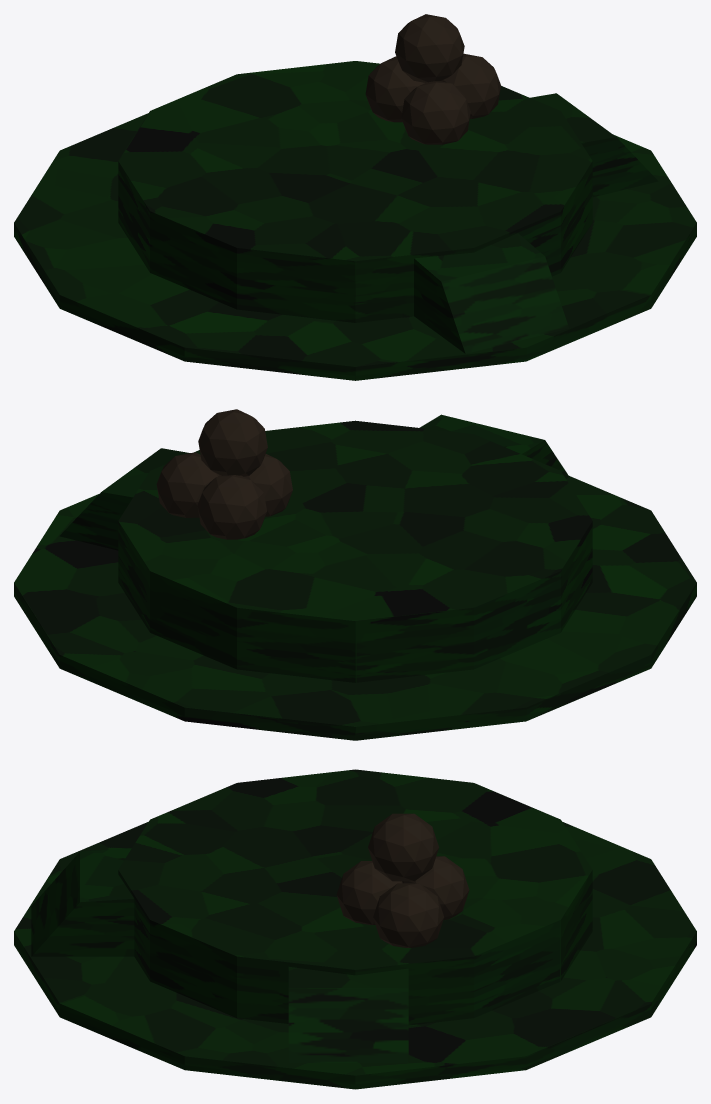
File: Canon_static.glb
3 views of the same model, one above another, from view 1: azimuth 30°, elevation 25°; view 2: azimuth 150°, elevation 25°; view 3: azimuth 270°, elevation 25° (orthographic).
Visible parts, largest first — view 1: Circle.001, Icosphere.006; view 2: Circle.001, Icosphere.006; view 3: Circle.001, Icosphere.006.
Boxes of the visible parts, left/top/right/bottom form: Circle.001: left=14, top=61, right=696, bottom=380; Icosphere.006: left=365, top=14, right=500, bottom=144; Circle.001: left=14, top=414, right=696, bottom=740; Icosphere.006: left=156, top=409, right=292, bottom=539; Circle.001: left=14, top=769, right=696, bottom=1089; Icosphere.006: left=336, top=813, right=469, bottom=947.
Bounding box in the file's own units: 2.17 × 0.6237 × 2.17.
2 materials, 1 textured.
